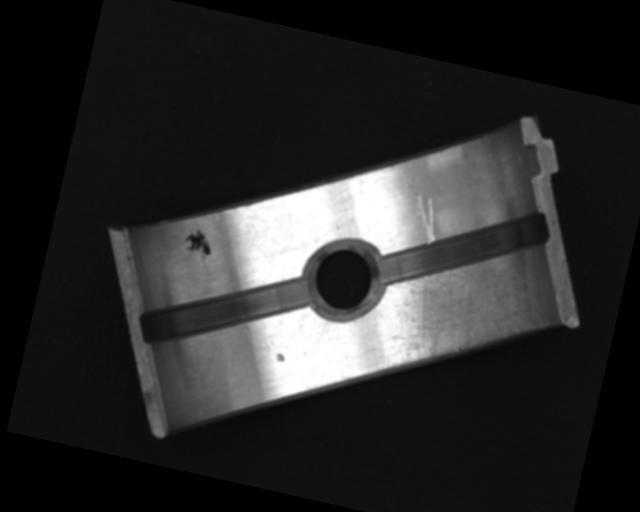blot: (181, 225, 217, 262)
bruise: (274, 352, 286, 362)
gap: (373, 177, 559, 317), (131, 244, 314, 376)
hole: (303, 239, 388, 325)
nick: (406, 190, 445, 245)
scratch: (374, 222, 565, 396)
